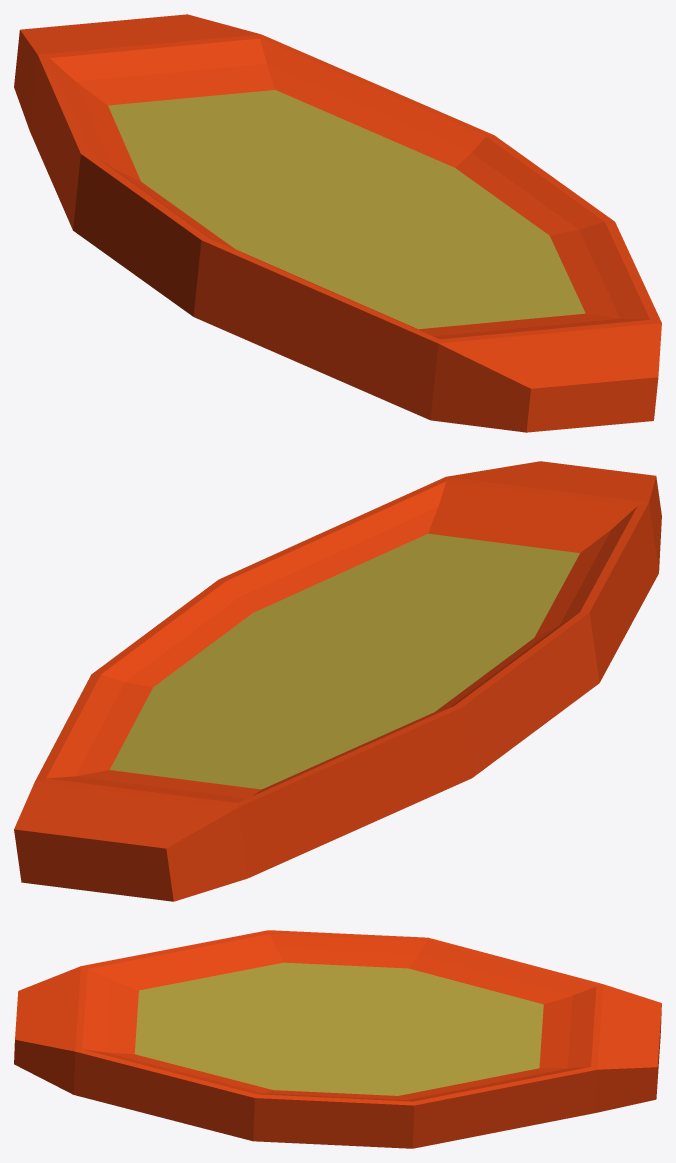
File: board.fbx
3 views of the same model, one above another, from view 1: azimuth 30°, elevation 25°; view 2: azimuth 150°, elevation 25°; view 3: azimuth 270°, elevation 25° (orthographic). The views are drawn at different scales.
Parts seen in each view (by area): view 1: Circle; view 2: Circle; view 3: Circle.
Part boxes in pixels (box(x1,y1,x2,y2)): Circle: box(14, 14, 661, 432); Circle: box(14, 461, 661, 901); Circle: box(14, 930, 661, 1148).
Bounding box in the file's own units: 145 × 50.91 × 310.
